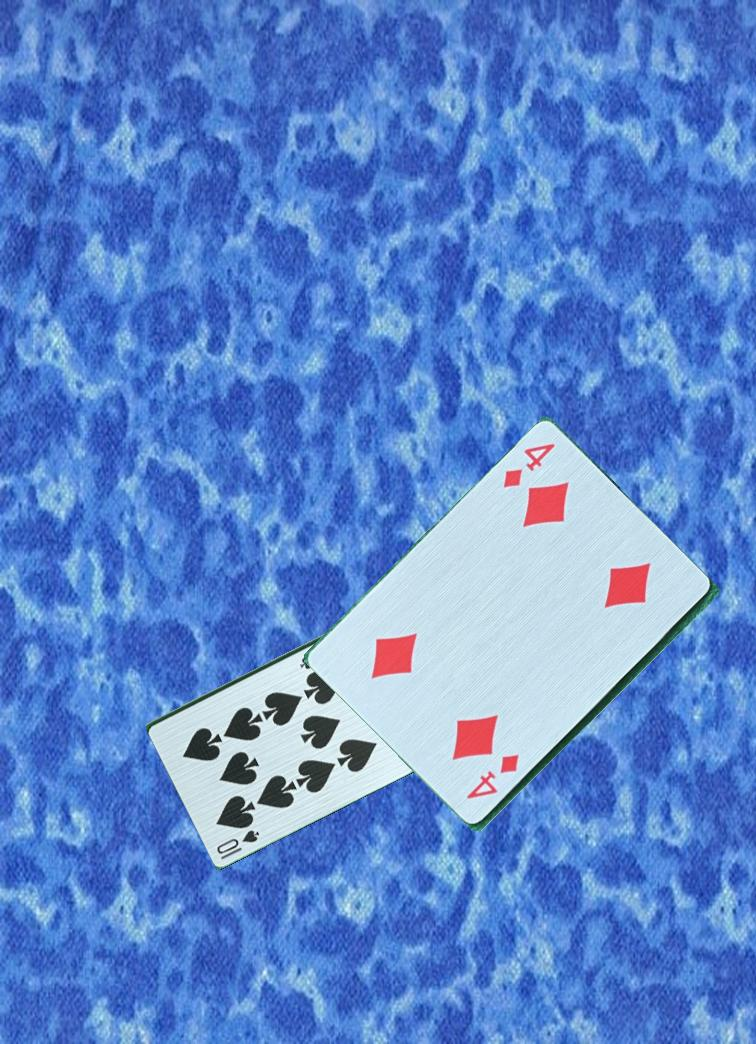4d: (499, 440, 559, 494), (462, 751, 522, 803)
ts: (213, 826, 262, 862)
